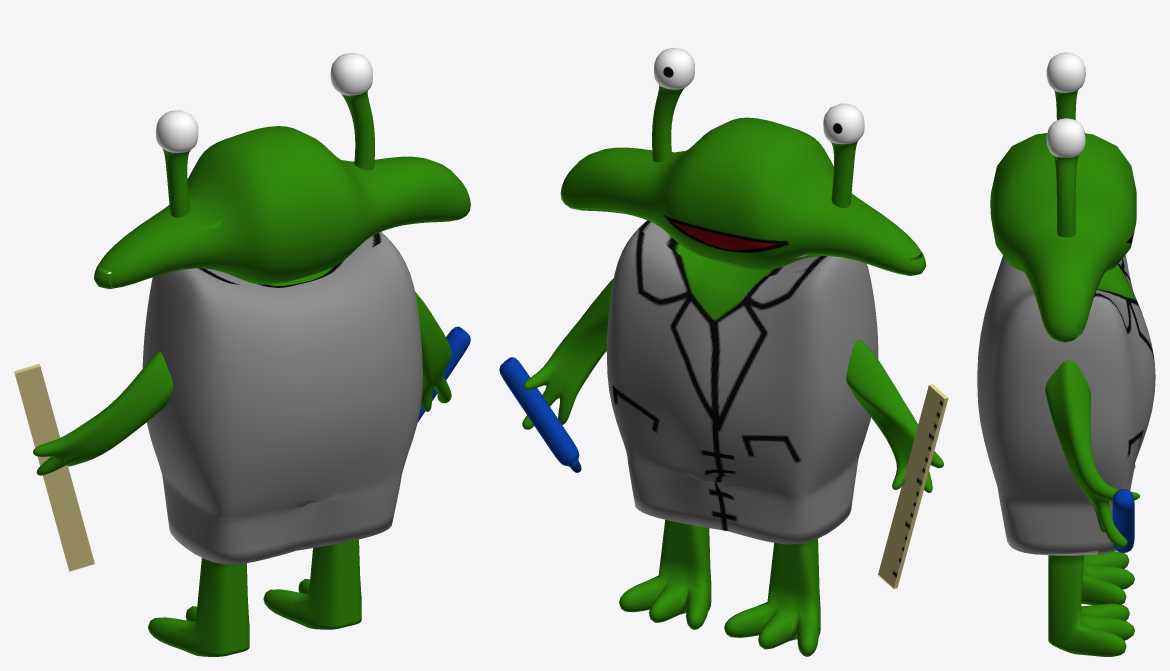
Rendered from martian-engineer.obj.
The picture shows the model from 3 angles, left to right: view 1: azimuth 30°, elevation 25°; view 2: azimuth 150°, elevation 25°; view 3: azimuth 270°, elevation 25°; orthographic projection. The views are drawn at different scales.
Parts seen in each view (by area): view 1: Martian-Engineer_Cube.000; view 2: Martian-Engineer_Cube.000; view 3: Martian-Engineer_Cube.000.
Part boxes in pixels (x1,y1,x2,y2): Martian-Engineer_Cube.000: (14,52,470,656); Martian-Engineer_Cube.000: (499,48,948,656); Martian-Engineer_Cube.000: (977,52,1155,656).
Size of the model in its own units: 3.96 by 4.97 by 1.43.
Materials: 1 (1 with a texture image).
